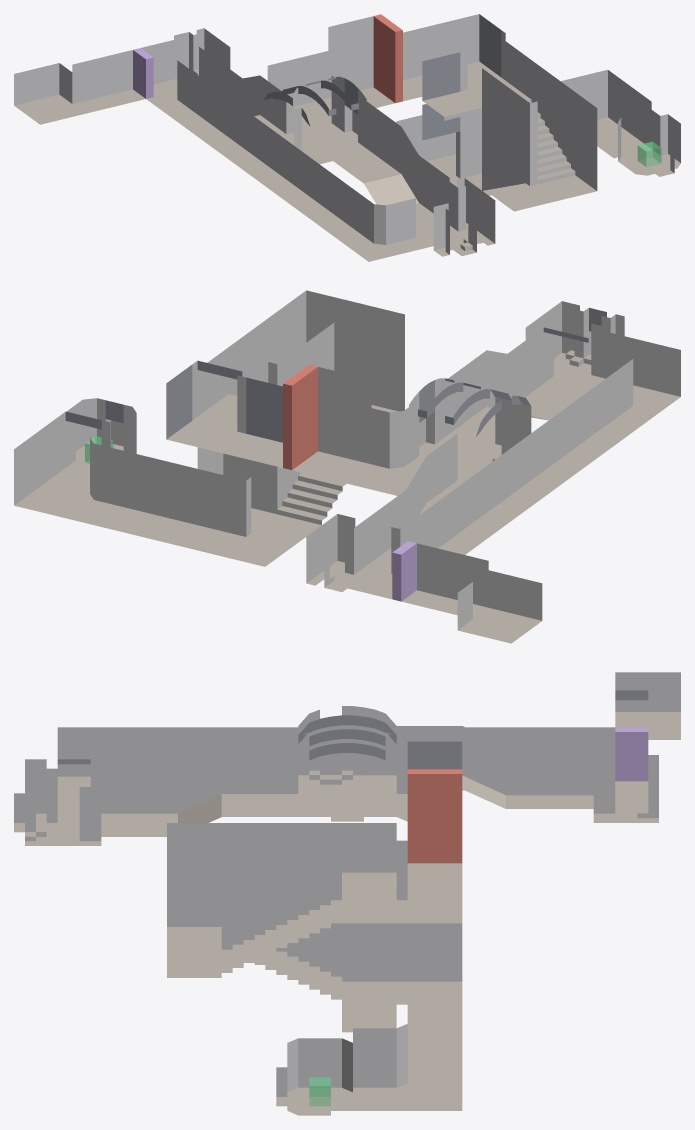
File: outpost_06.glb
3 renders of one model, top to bottom at view 1: azimuth 30°, elevation 25°; view 2: azimuth 150°, elevation 25°; view 3: azimuth 270°, elevation 25°, orthographic. The views are drawn at different scales.
Visible parts, largest first — view 1: room:5, corridor:5, corridor:1, corridor:4, corridor:0, room:1, corridor:3, entities, room:4, corridor:2, room:0, room:2 (+7 smaller); view 2: room:5, corridor:4, corridor:5, corridor:1, corridor:0, room:1, corridor:2, entities, corridor:3, room:4, room:3, room:0 (+5 smaller); view 3: room:5, corridor:0, corridor:4, corridor:5, corridor:2, room:1, entities, corridor:1, room:2, room:4, room:0, room:0/portals (+6 smaller).
Part boxes in pixels (x1,y1,x2,y2): room:5: (422, 41, 597, 211); corridor:5: (146, 60, 428, 261); corridor:1: (267, 14, 505, 131); corridor:4: (396, 69, 651, 180); corridor:0: (333, 104, 449, 233); room:1: (271, 76, 370, 164); corridor:3: (72, 42, 175, 113); entities: (133, 14, 661, 167); room:4: (14, 63, 85, 124); corridor:2: (207, 53, 286, 135); room:0: (416, 178, 495, 256); room:2: (618, 114, 680, 175); room:5: (197, 290, 404, 543); corridor:4: (14, 411, 295, 566); corridor:5: (381, 332, 680, 583); corridor:1: (166, 360, 417, 495); corridor:0: (450, 327, 588, 443); room:1: (404, 377, 531, 481); corridor:2: (364, 433, 464, 573); entities: (85, 364, 416, 601); corridor:3: (366, 543, 488, 618); room:4: (457, 570, 542, 643); room:3: (306, 514, 390, 592); room:0: (525, 301, 624, 393); room:5: (167, 823, 396, 1032); corridor:0: (101, 734, 298, 836); corridor:4: (353, 923, 462, 1110); corridor:5: (57, 727, 615, 813); corridor:2: (396, 726, 593, 808); room:1: (298, 706, 396, 816); entities: (309, 727, 648, 1106); corridor:1: (396, 734, 462, 923); room:2: (287, 1038, 352, 1115); room:4: (615, 672, 680, 739); room:0: (25, 759, 101, 845); room:0/portals: (46, 768, 101, 841).
Size of the model in its own units: 68 by 20 by 61.
